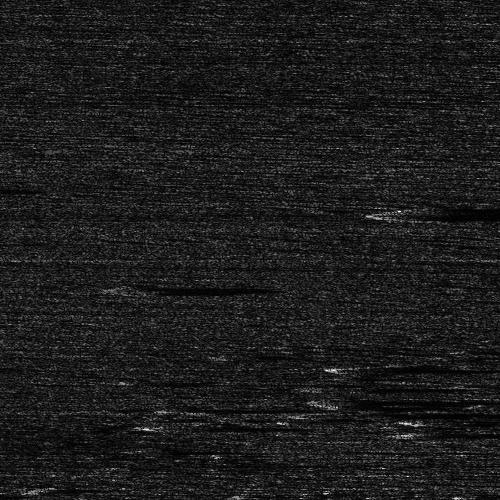object: (352, 205, 425, 218), (341, 407, 424, 418), (140, 424, 213, 429), (335, 364, 376, 371), (383, 430, 436, 435), (297, 383, 350, 388), (102, 285, 143, 290)
shadow: (389, 205, 500, 218), (383, 407, 500, 418), (356, 364, 500, 371), (340, 396, 487, 401), (177, 424, 313, 429), (123, 285, 253, 290), (323, 383, 432, 388), (0, 185, 96, 190), (410, 430, 500, 435)
